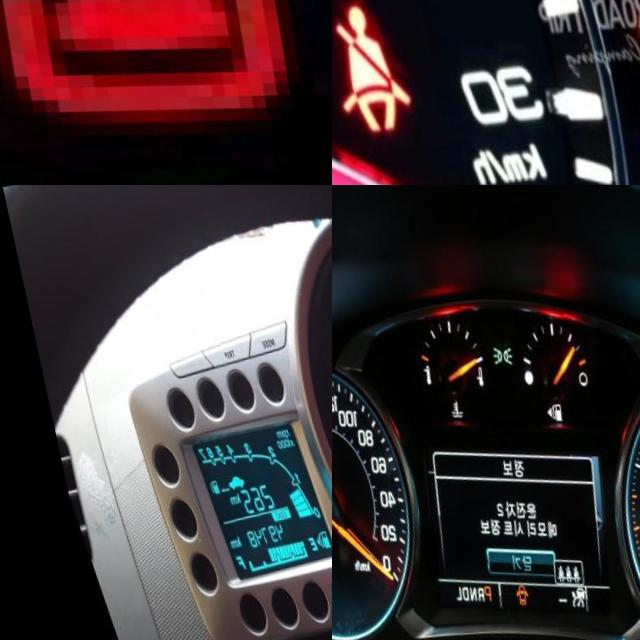Doors: (0, 0, 332, 139), (492, 588, 510, 610)
SideLamp: (479, 348, 505, 372)
